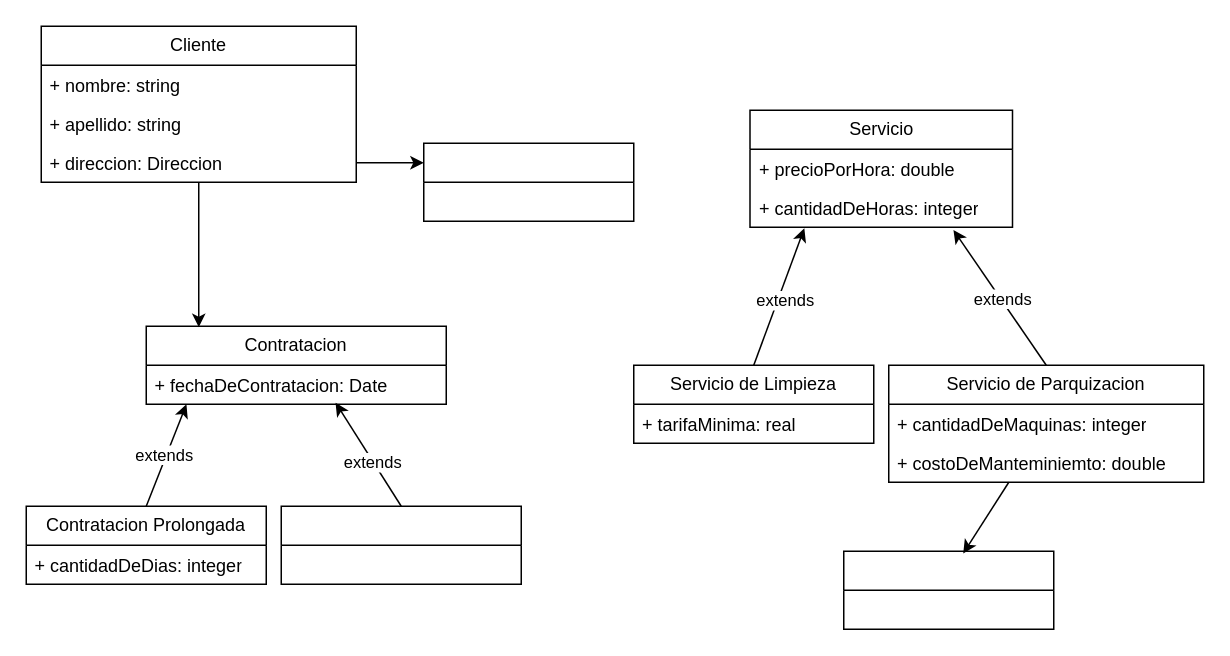
The diagram is 1230 pixels wide and 656 high, and some of its shapes have lost their labels. Each missing label, with the centre of its shape:
Contratacion Unica: point (400, 544)
Direccion: point (528, 181)
Maquina: point (948, 589)
